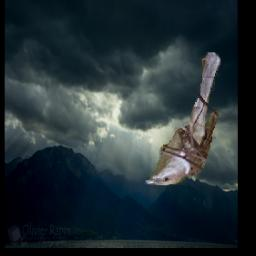Cuckoo: (145, 53, 222, 186)
